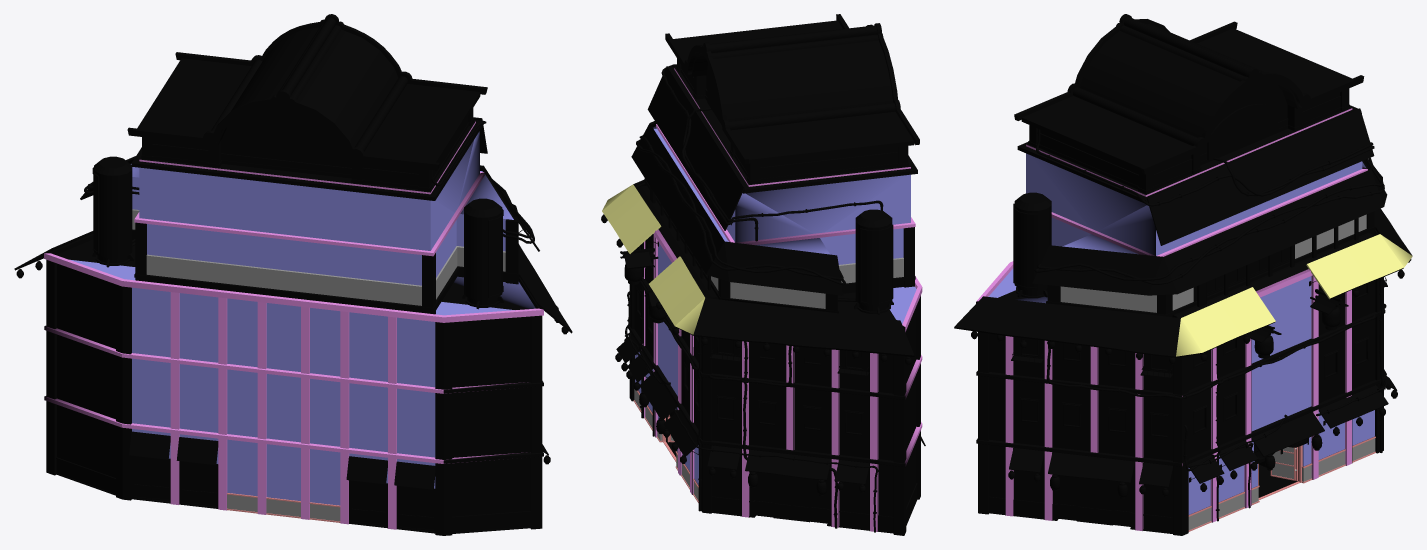
Rendered from SM_ENV_LKNVLD_Shop_Structure.gltf.
3 views of the same model, side by side, from view 1: azimuth 30°, elevation 25°; view 2: azimuth 150°, elevation 25°; view 3: azimuth 270°, elevation 25° (orthographic). The views are drawn at different scales.
Visible parts, largest first — view 1: SM_ENV_LKNVLD_Shop_Structure; view 2: SM_ENV_LKNVLD_Shop_Structure; view 3: SM_ENV_LKNVLD_Shop_Structure.
Part boxes in pixels (left/top/right/bottom): SM_ENV_LKNVLD_Shop_Structure: left=14, top=14, right=572, bottom=535; SM_ENV_LKNVLD_Shop_Structure: left=601, top=14, right=925, bottom=535; SM_ENV_LKNVLD_Shop_Structure: left=954, top=14, right=1412, bottom=535.
Size of the model in its own units: 35.83 by 35.54 by 35.83.
